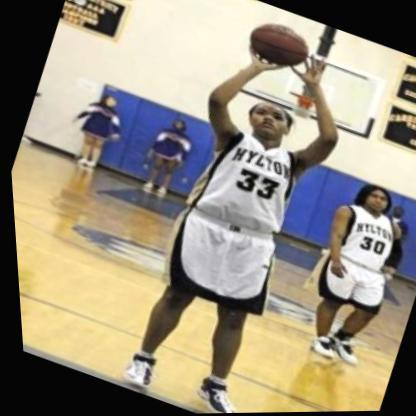basketball: (236, 9, 325, 85)
